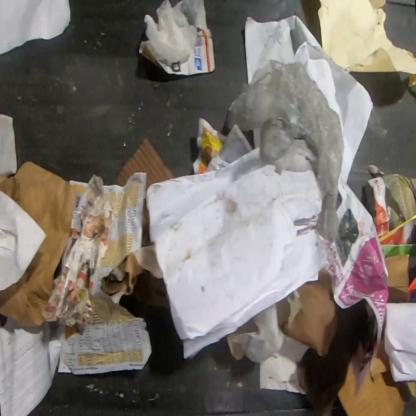cardboard: (277, 267, 340, 360), (336, 334, 407, 415), (138, 29, 216, 77), (115, 135, 176, 192), (101, 253, 146, 296), (131, 270, 169, 310), (384, 253, 411, 303), (226, 319, 257, 362), (141, 199, 153, 247), (403, 380, 416, 402)
soft_plastic: (226, 59, 347, 268), (143, 0, 199, 64), (238, 302, 286, 366)
